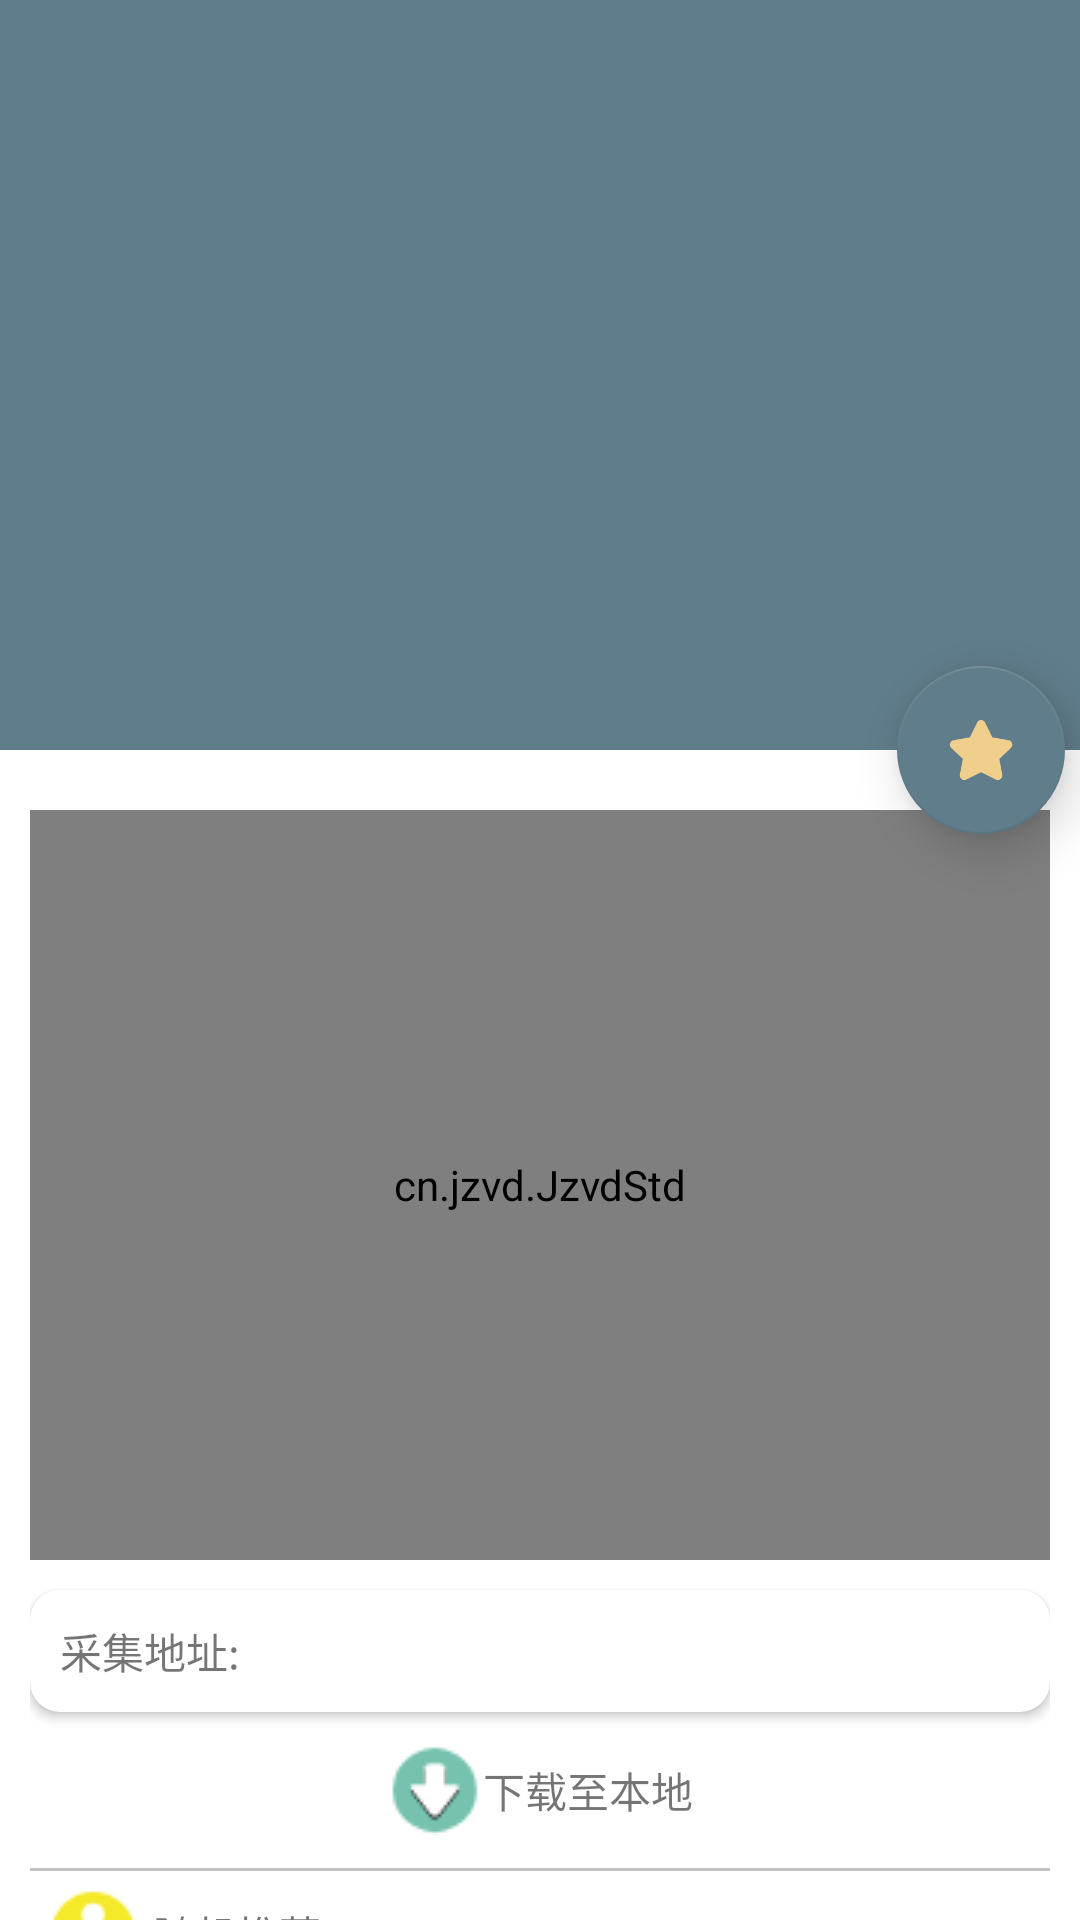

Icons on this 1080 x 1920 Android screen, each with the point to tap as [x,y]:
collection off: [981,750]
